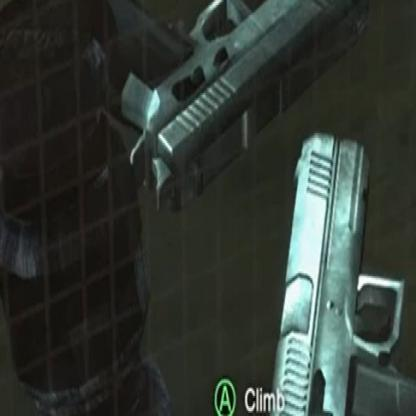gun: (81, 0, 375, 218), (243, 118, 415, 414)
